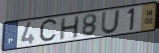1: (127, 7, 137, 33)
4: (20, 21, 36, 46)
8: (80, 13, 99, 37)
C: (38, 17, 59, 45)
H: (58, 15, 81, 41)
U: (100, 9, 122, 35)
